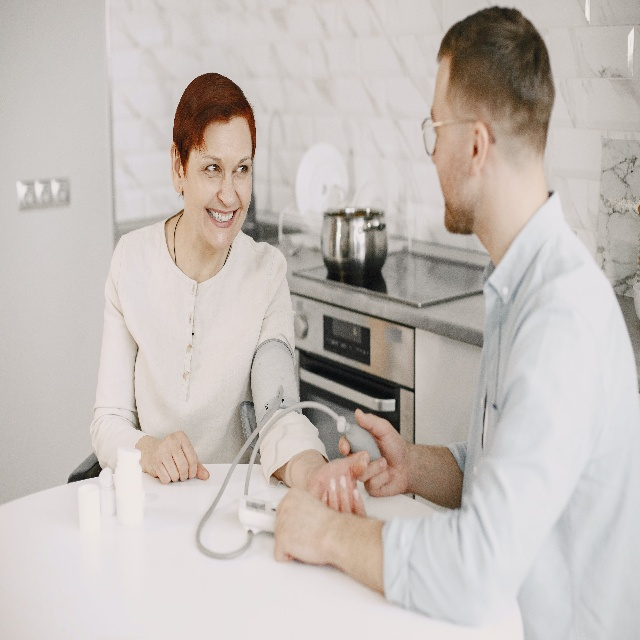Gafas: (421, 114, 496, 157)
Sin_guantes: (338, 408, 410, 498), (274, 485, 336, 566), (144, 430, 210, 484), (308, 457, 367, 516)
